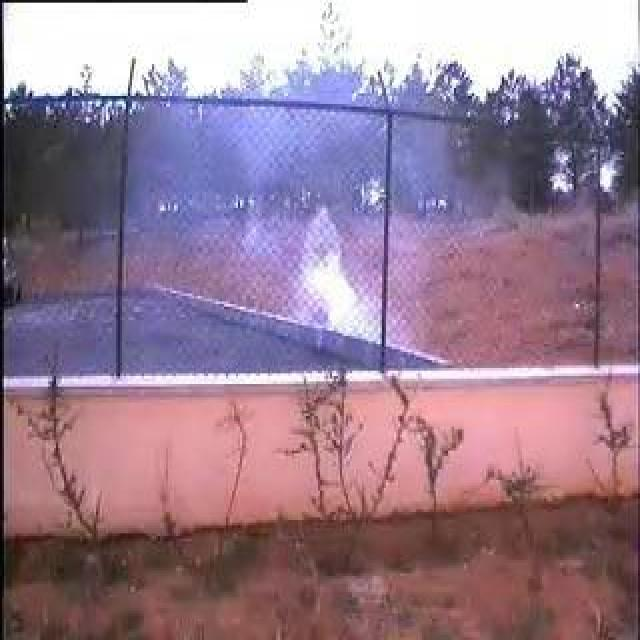Smoke: (233, 121, 409, 343)
